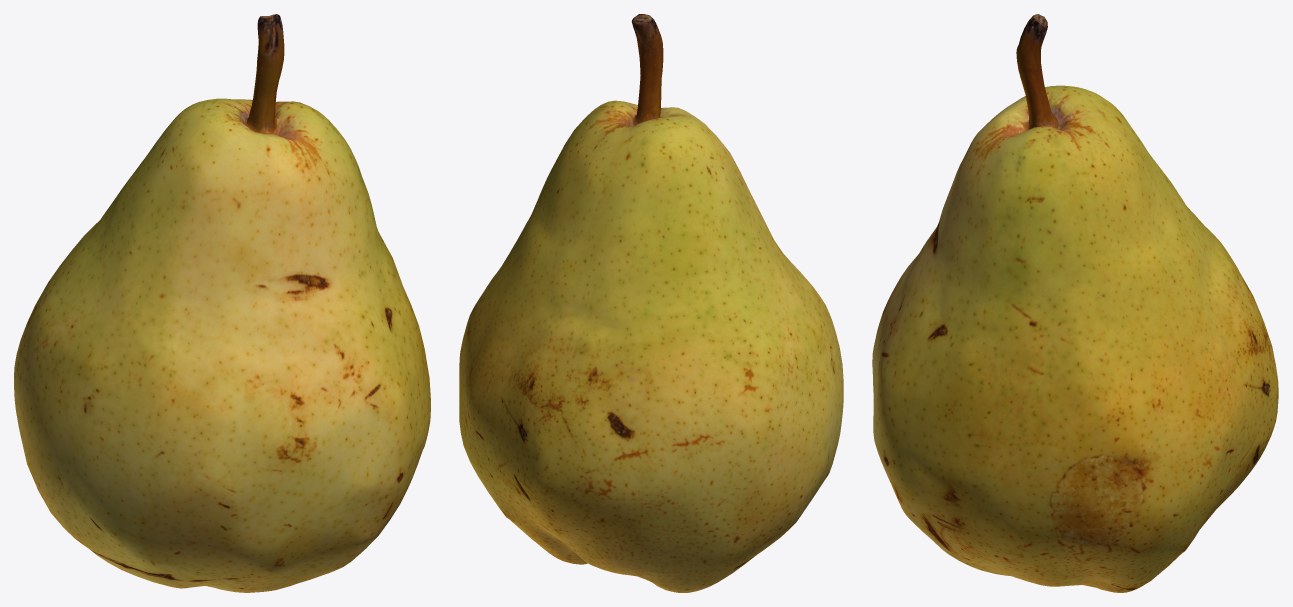
File: Pear.gltf
3 views of the same model, side by side, from view 1: azimuth 30°, elevation 25°; view 2: azimuth 150°, elevation 25°; view 3: azimuth 270°, elevation 25° (orthographic). The views are drawn at different scales.
Visible parts, largest first — view 1: Pear1; view 2: Pear1; view 3: Pear1.
Boxes of the visible parts, <box> form: Pear1: <box>14,14,430,592</box>; Pear1: <box>459,14,843,592</box>; Pear1: <box>872,14,1278,592</box>.
Size of the model in its own units: 7.51 by 11.13 by 7.35.
Materials: 1 (1 with a texture image).
